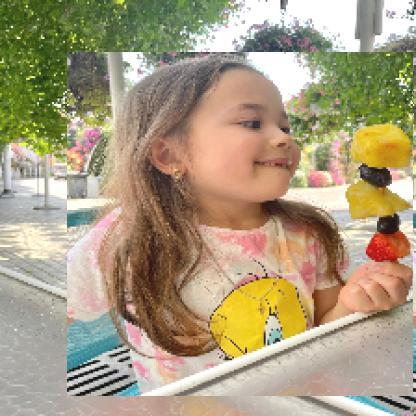child: (68, 53, 415, 398)
